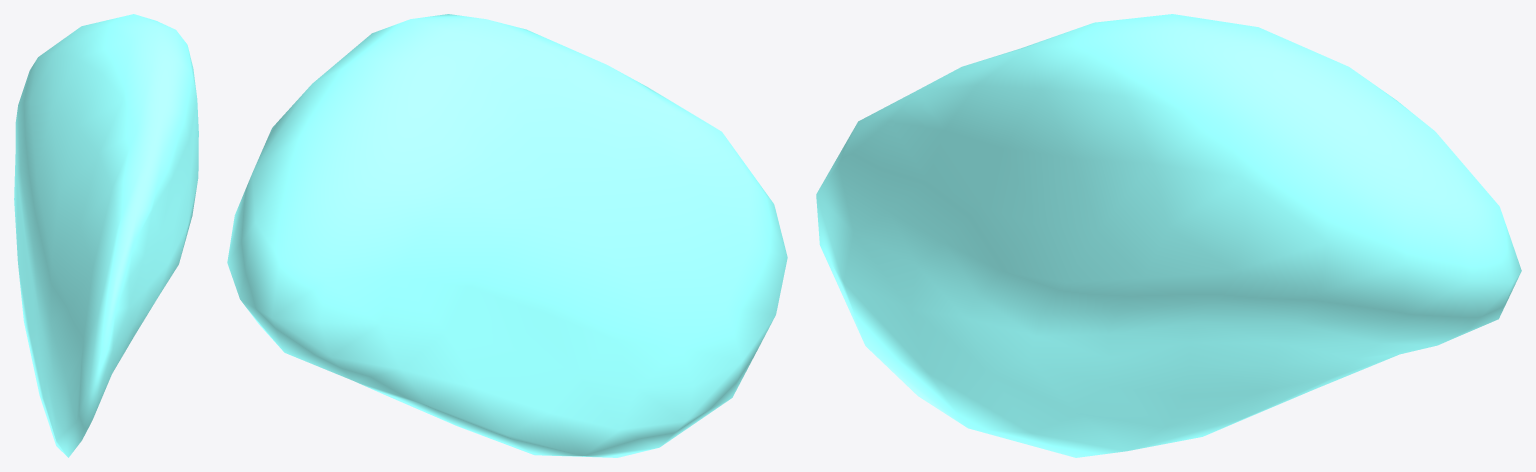
Rendered from vacuola.glb.
3 renders of one model, left to right at view 1: azimuth 30°, elevation 25°; view 2: azimuth 150°, elevation 25°; view 3: azimuth 270°, elevation 25°, orthographic. The views are drawn at different scales.
Parts seen in each view (by area): view 1: vacuole001; view 2: vacuole001; view 3: vacuole001.
Part boxes in pixels (left/top/right/bottom): vacuole001: left=14, top=14, right=198, bottom=457; vacuole001: left=227, top=14, right=787, bottom=457; vacuole001: left=816, top=14, right=1521, bottom=457.
Size of the model in its own units: 6.89 by 8.81 by 10.64.
